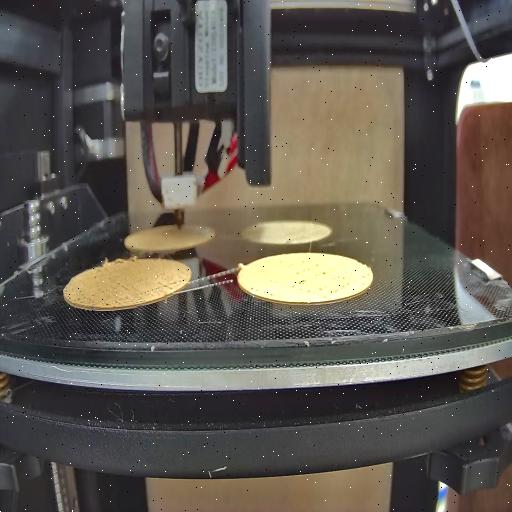under_extrusion: (292, 260, 354, 300), (78, 273, 134, 310), (148, 278, 182, 298), (249, 283, 275, 301)
